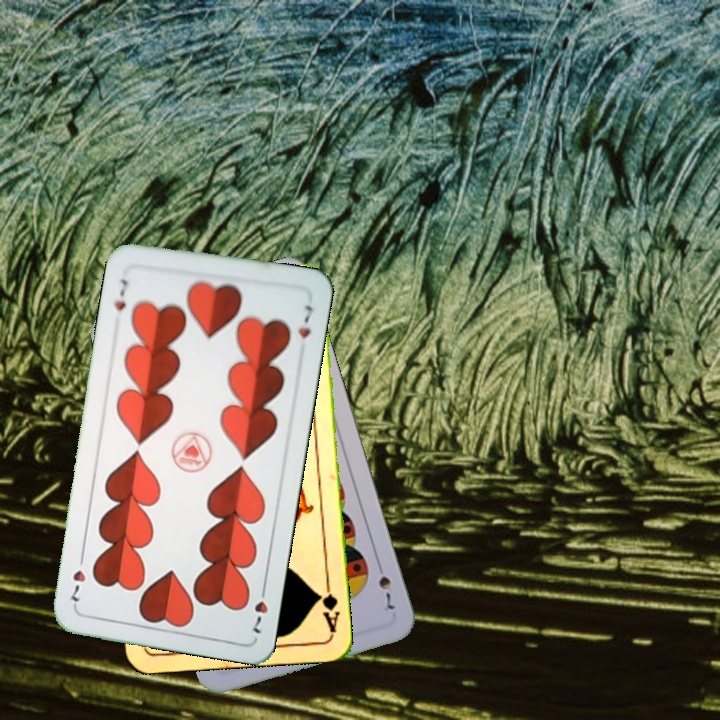GA: (314, 576, 342, 635)
H7: (249, 579, 271, 637), (110, 274, 131, 313)
S7: (373, 557, 398, 615)
